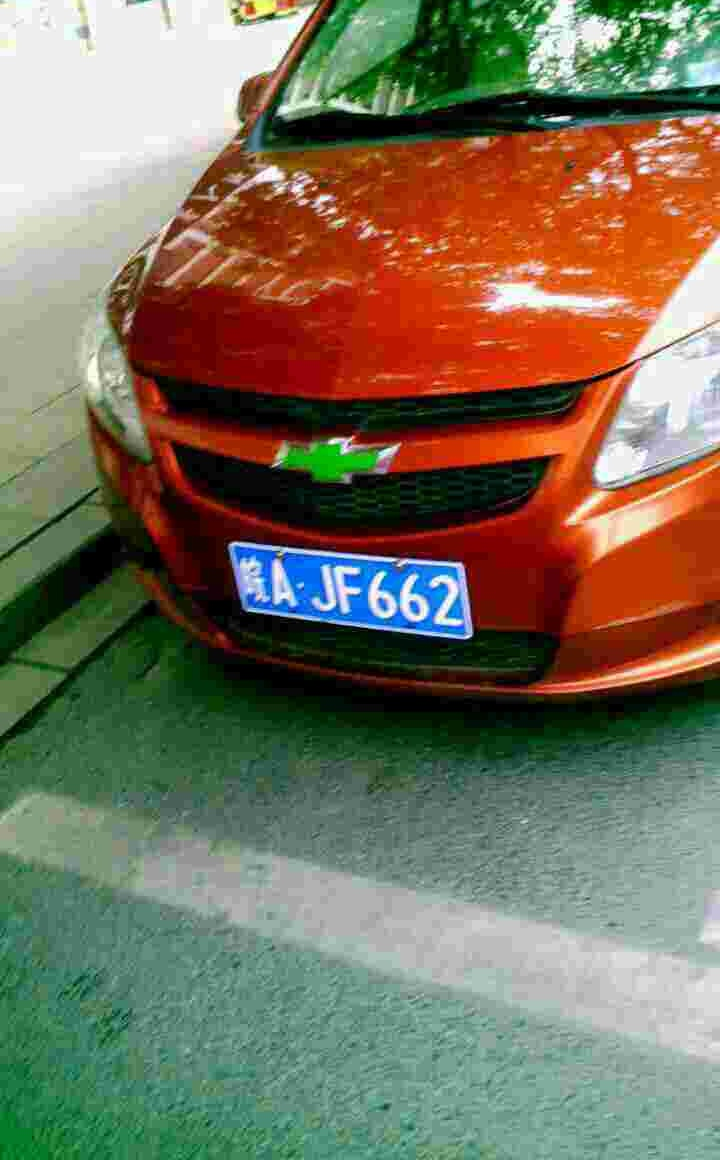license_plate: (235, 545, 480, 646)
